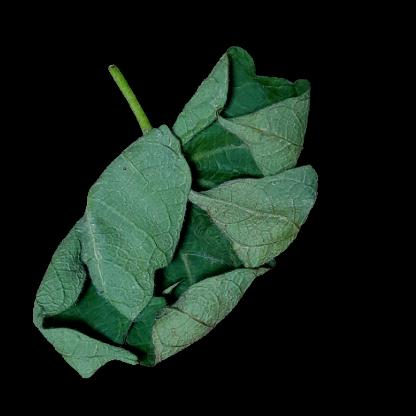curl_stage2: (92, 193, 302, 254), (46, 258, 250, 319), (191, 104, 306, 190), (58, 321, 136, 364)
